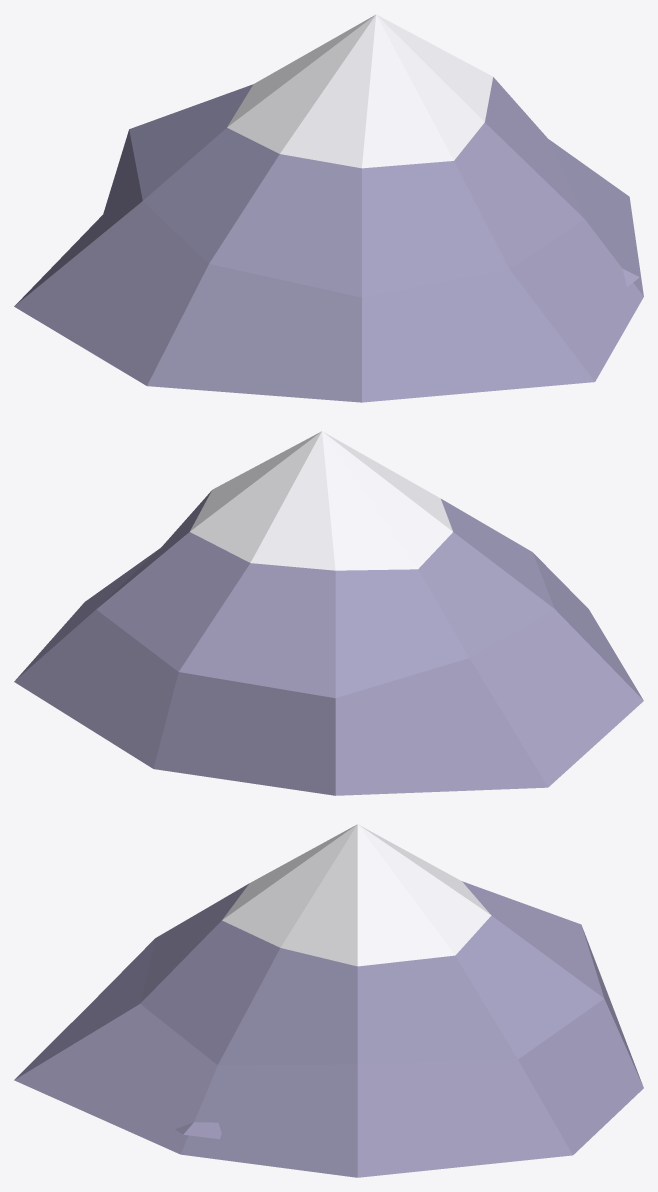
File: nature.glb
The picture shows the model from 3 angles, top to bottom: view 1: azimuth 30°, elevation 25°; view 2: azimuth 150°, elevation 25°; view 3: azimuth 270°, elevation 25°; orthographic projection. The views are drawn at different scales.
Visible parts, largest first — view 1: mountain_c; view 2: mountain_c; view 3: mountain_c, mountain_a.
Boxes of the visible parts, <box> form: mountain_c: <box>14,14,643,402</box>; mountain_c: <box>14,431,643,795</box>; mountain_c: <box>14,824,643,1177</box>; mountain_a: <box>175,1122,221,1139</box>.
Bounding box in the file's own units: 23.21 × 10.5 × 23.71.
